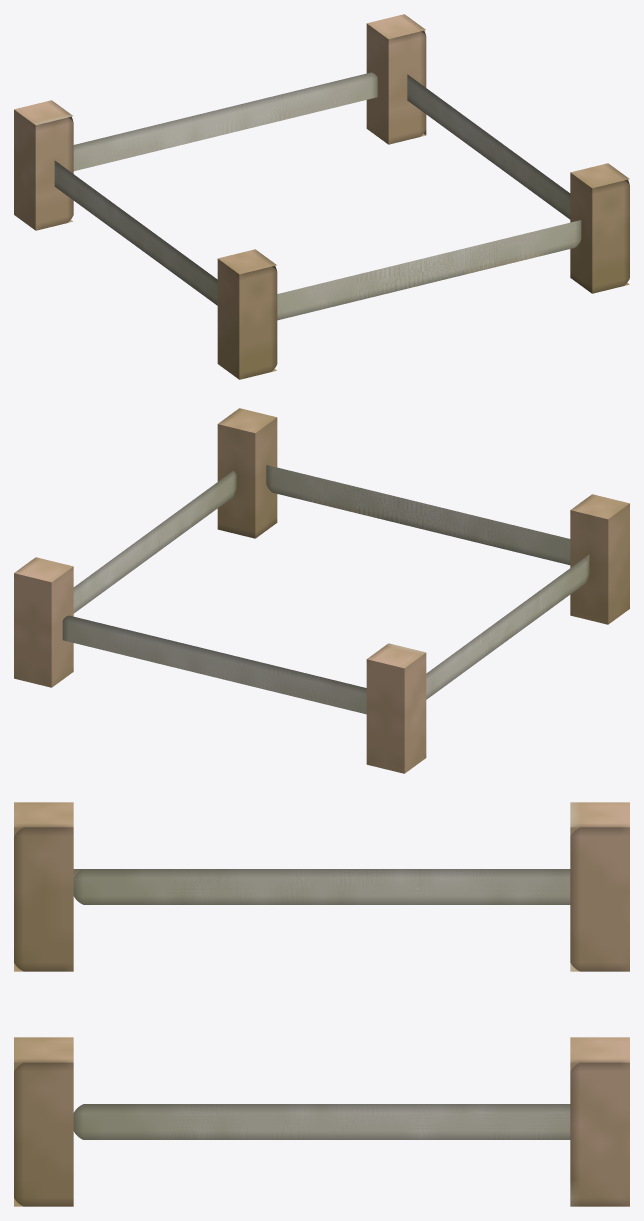
File: TileScaffold.fbx
3 renders of one model, top to bottom at view 1: azimuth 30°, elevation 25°; view 2: azimuth 150°, elevation 25°; view 3: azimuth 270°, elevation 25°, orthographic. The views are drawn at different scales.
Parts seen in each view (by area): view 1: tape, tape_1, standard_2, standard_3, standard_1, standard, tape_2, tape_3; view 2: tape, tape_1, standard_1, standard, standard_2, standard_3, tape_2, tape_3; view 3: tape_2, tape_3, standard, standard_1, standard_2, standard_3.
Boxes of the visible parts, <box> form: tape: <box>73,72,377,171</box>; tape_1: <box>277,220,581,320</box>; standard_2: <box>217,249,277,379</box>; standard_3: <box>570,163,629,293</box>; standard_1: <box>14,100,73,230</box>; standard: <box>366,14,426,144</box>; tape_2: <box>54,160,217,305</box>; tape_3: <box>407,74,570,219</box>; tape: <box>62,615,366,714</box>; tape_1: <box>266,465,570,565</box>; standard_1: <box>366,643,426,773</box>; standard: <box>14,557,73,687</box>; standard_2: <box>570,494,629,624</box>; standard_3: <box>217,408,277,538</box>; tape_2: <box>426,554,589,699</box>; tape_3: <box>73,471,236,613</box>; tape_2: <box>73,869,570,904</box>; tape_3: <box>73,1104,570,1139</box>; standard: <box>570,1037,629,1206</box>; standard_1: <box>570,802,629,971</box>; standard_2: <box>14,802,73,971</box>; standard_3: <box>14,1037,73,1206</box>.
Bounding box in the file's own units: 96.88 × 25 × 96.88.
1 material, 1 textured.
